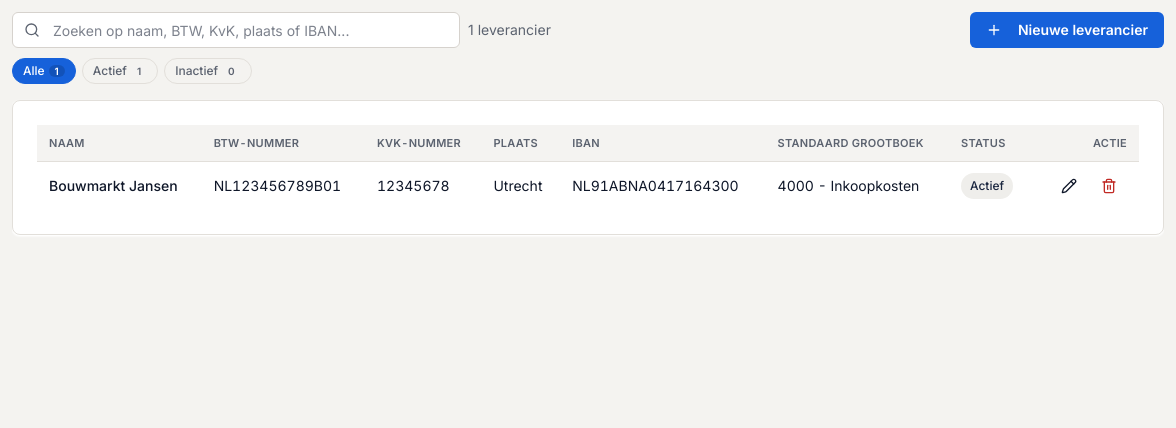
Test: Leveranciers pagina › toont zoek-empty state
Type "zzz" into the field named "Zoeken in leveranciers" at {"x": 236, "y": 30}, box [12, 12, 460, 48]
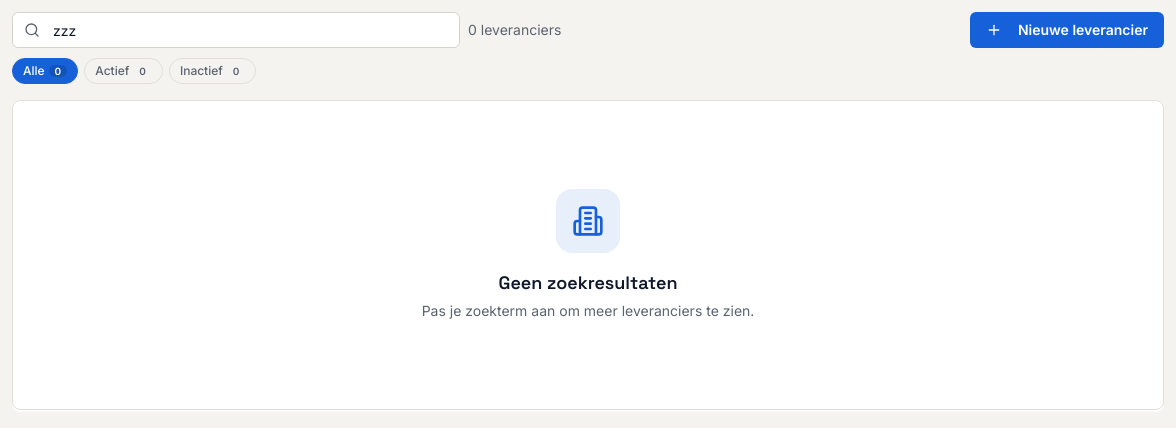
Expected: the heading "Geen zoekresultaten" is shown, [498, 269, 678, 297]
